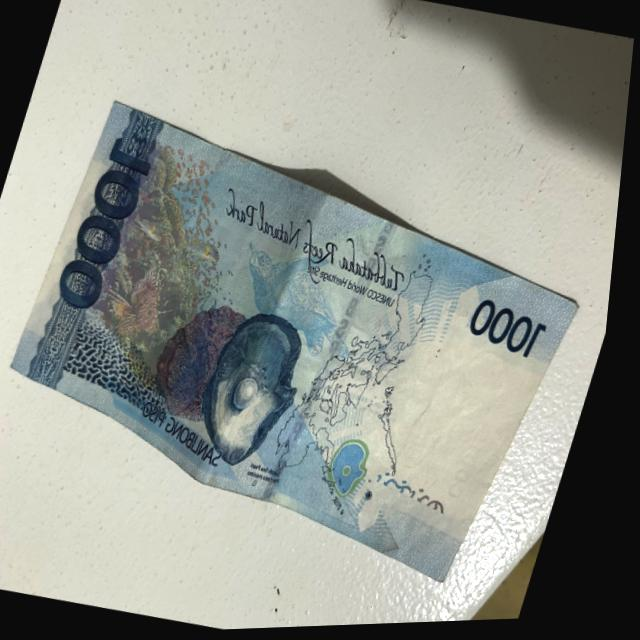1000_pearl: (198, 307, 315, 467)
1000_pearl_watermark: (333, 435, 382, 501)
value_watermark: (443, 423, 503, 515)
watermark: (375, 307, 542, 531)
